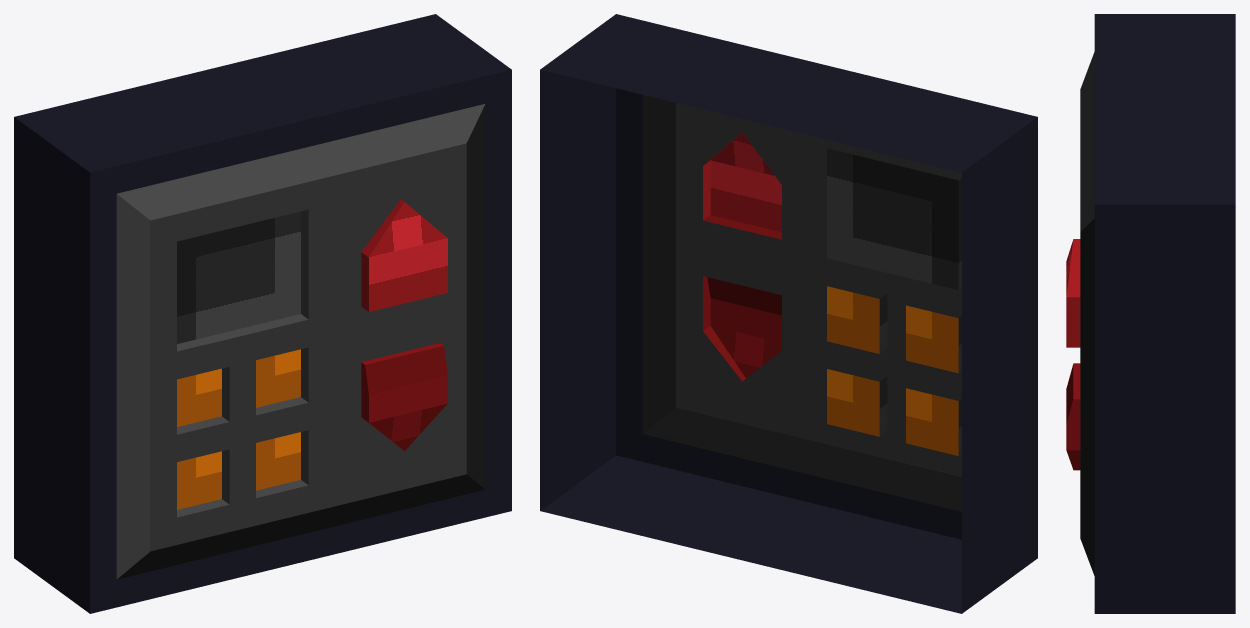
File: switch6.fbx
The picture shows the model from 3 angles, left to right: view 1: azimuth 30°, elevation 25°; view 2: azimuth 150°, elevation 25°; view 3: azimuth 270°, elevation 25°; orthographic projection. The views are drawn at different scales.
Parts seen in each view (by area): view 1: elev1_up; view 2: elev1_up; view 3: elev1_up.
Part boxes in pixels (x1,y1,x2,y2): elev1_up: (14, 14, 511, 613); elev1_up: (540, 14, 1037, 613); elev1_up: (1066, 14, 1235, 613).
Bounding box in the file's own units: 64 × 64 × 24.
